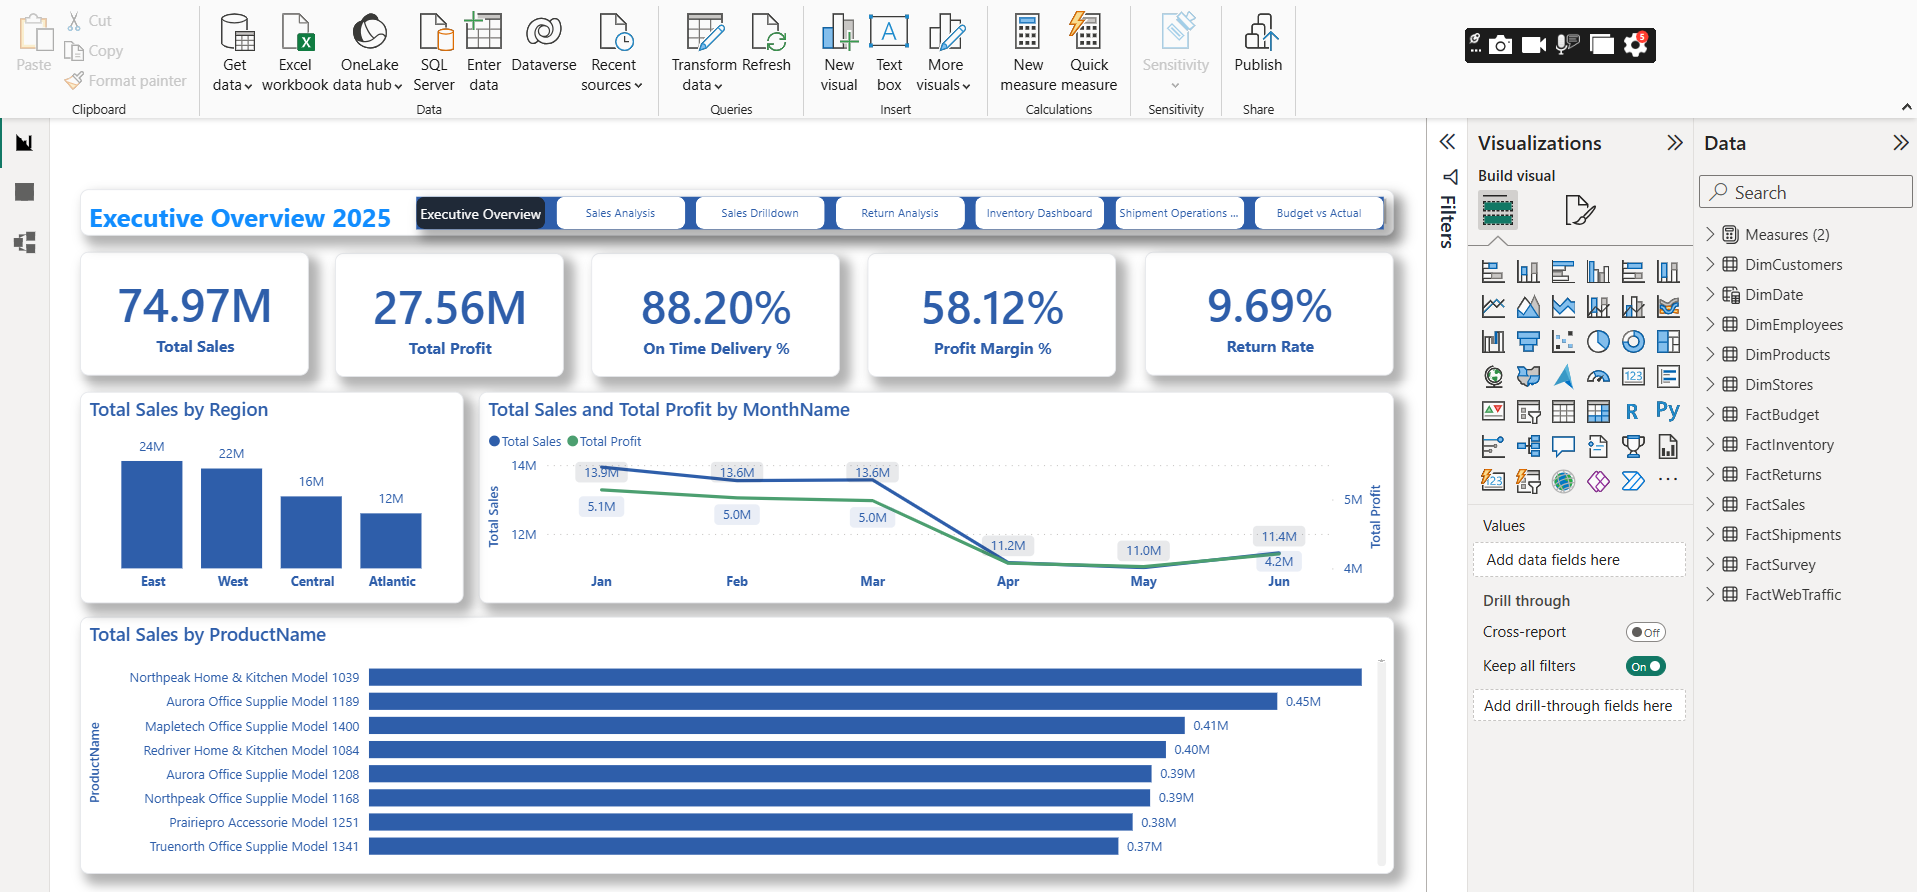

Layout of this report page (visuals, bound fields, positions):
{"tool":"powerbi","page":{"name":"Executive Overview","canvas":[1280,720],"ordinal":0},"visuals":[{"type":"card","fields":{"Values":["Measures (2).Total Sales"]},"box":[27.9,124.4,212.8,115.1],"z":0},{"type":"card","fields":{"Values":["Measures (2).Total Profit"]},"box":[265.1,125.6,212.8,115.1],"z":1000},{"type":"card","fields":{"Values":["Measures (2).Profit Margin %"]},"box":[760.5,125.6,231.4,115.1],"z":2000},{"type":"card","fields":{"Values":["Measures (2).Return Rate"]},"box":[1018.6,124.4,231.4,115.1],"z":3000},{"type":"card","fields":{"Values":["Measures (2).On Time Delivery %"]},"box":[503.5,125.6,231.4,115.1],"z":4000},{"type":"lineChart","fields":{"Y":["Measures (2).Total Sales"],"Y2":["Measures (2).Total Profit"],"Category":["DimDate.MonthName"]},"box":[398.8,254.7,851.2,196.5],"z":5000},{"type":"barChart","fields":{"Category":["DimProducts.ProductName"],"Y":["Measures (2).Total Sales"]},"box":[27.9,464,1222.1,239.5],"z":6000},{"type":"clusteredColumnChart","fields":{"Category":["DimStores.Region"],"Y":["Measures (2).Total Sales"]},"box":[27.9,254.7,357,196.5],"z":7000},{"type":"textbox","box":[27.9,66.3,1222.1,43],"z":8000},{"type":"pageNavigator","box":[341,72.7,900,30.2],"z":9000}]}

Visuals, with their boxes on the page's 1280x720 design canvas (x1, y1, x2, y2). These are canvas units, not pixel positions in the 1917x892 screenshot, which may show the page scaled, cropped or inside an application window:
card - Measures (2).Total Sales: select_region(28, 124, 241, 240)
card - Measures (2).Total Profit: select_region(265, 126, 478, 241)
card - Measures (2).Profit Margin %: select_region(760, 126, 992, 241)
card - Measures (2).Return Rate: select_region(1019, 124, 1250, 240)
card - Measures (2).On Time Delivery %: select_region(504, 126, 735, 241)
lineChart - Measures (2).Total Sales x Measures (2).Total Profit: select_region(399, 255, 1250, 451)
barChart - DimProducts.ProductName x Measures (2).Total Sales: select_region(28, 464, 1250, 704)
clusteredColumnChart - DimStores.Region x Measures (2).Total Sales: select_region(28, 255, 385, 451)
textbox: select_region(28, 66, 1250, 109)
pageNavigator: select_region(341, 73, 1241, 103)
